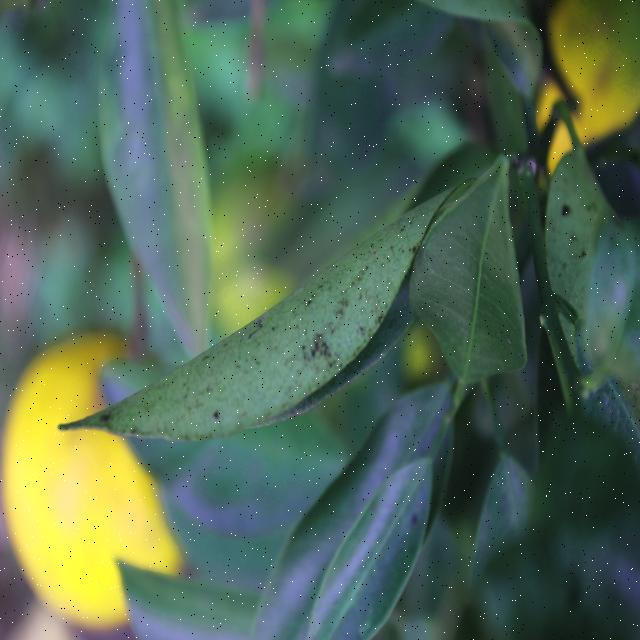melanose: (90, 181, 447, 457), (554, 158, 640, 378)
